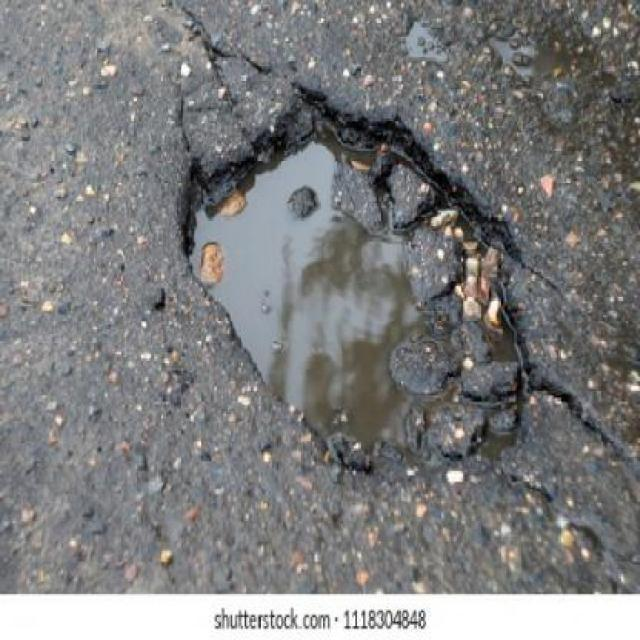Pothole: (164, 86, 542, 482)
